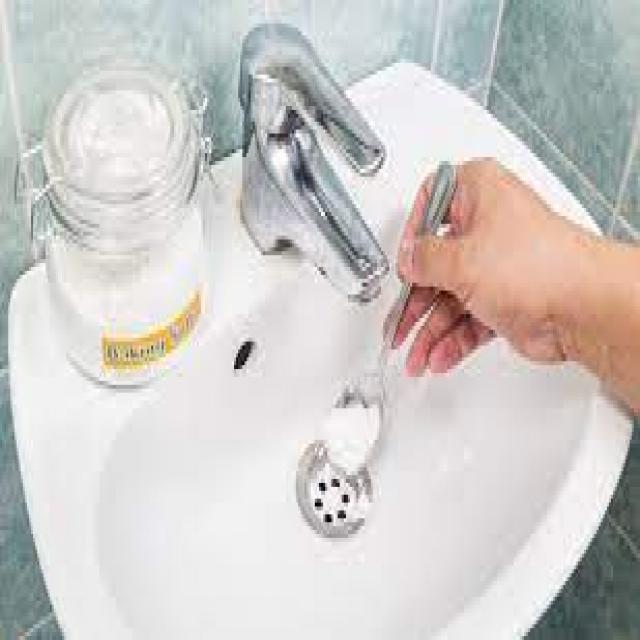tap: (236, 14, 402, 319)
wash basin: (53, 83, 569, 640)
